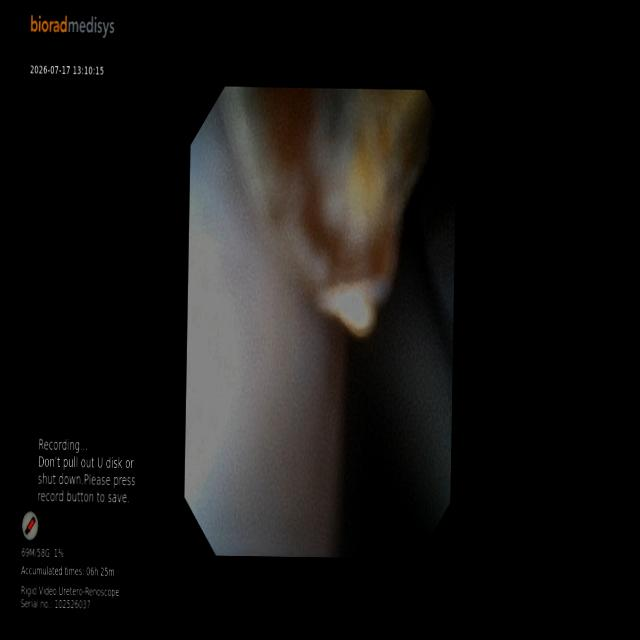stone-new: (219, 87, 434, 335)
